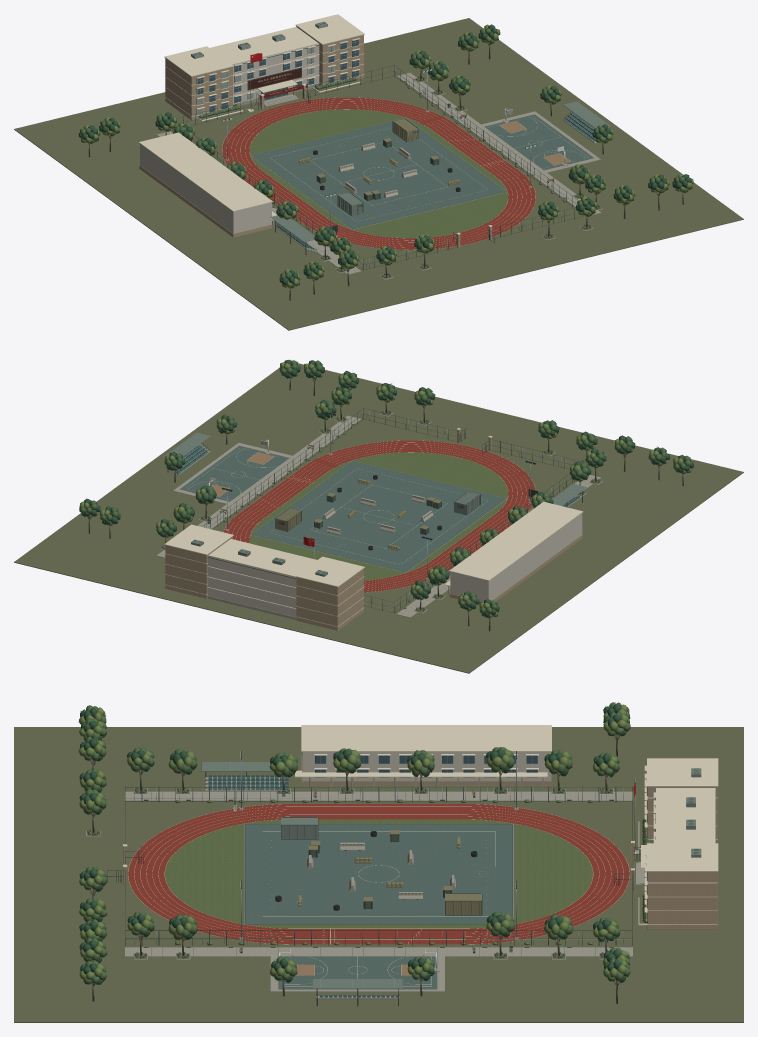
Rendered from campus.glb.
3 views of the same model, one above another, from view 1: azimuth 30°, elevation 25°; view 2: azimuth 150°, elevation 25°; view 3: azimuth 270°, elevation 25° (orthographic). The views are drawn at different scales.
Visible parts, largest first — view 1: CAMPUS | Earth, CAMPUS | 01 | Worn jade court, CAMPUS | Pale limestone trim, CAMPUS | 02 | Granulated terracotta track, CAMPUS | Grass mid, CAMPUS | 03 | Cast concrete, CAMPUS | Warm plaster, CAMPUS | 05 | Warm campus brick, CAMPUS | Leaf deep, CAMPUS | Leaf sunlit, CAMPUS | Leaf medium, CAMPUS | Graphite steel (+10 smaller); view 2: CAMPUS | Earth, CAMPUS | 01 | Worn jade court, CAMPUS | Pale limestone trim, CAMPUS | 02 | Granulated terracotta track, CAMPUS | Warm plaster, CAMPUS | Grass mid, CAMPUS | 05 | Warm campus brick, CAMPUS | 03 | Cast concrete, CAMPUS | Leaf medium, CAMPUS | Leaf deep, CAMPUS | Leaf sunlit, CAMPUS | Graphite steel (+5 smaller); view 3: CAMPUS | Earth, CAMPUS | 01 | Worn jade court, CAMPUS | 02 | Granulated terracotta track, CAMPUS | Pale limestone trim, CAMPUS | Grass mid, CAMPUS | 03 | Cast concrete, CAMPUS | Leaf sunlit, CAMPUS | 05 | Warm campus brick, CAMPUS | Leaf medium, CAMPUS | Leaf deep, CAMPUS | Graphite steel, CAMPUS | Warm plaster (+9 smaller).
Part boxes in pixels (x1,y1,x2,y2): CAMPUS | Earth: (14,18,743,330); CAMPUS | 01 | Worn jade court: (251,114,593,229); CAMPUS | Pale limestone trim: (139,14,535,234); CAMPUS | 02 | Granulated terracotta track: (222,97,535,249); CAMPUS | Grass mid: (190,76,565,238); CAMPUS | 03 | Cast concrete: (157,72,602,279); CAMPUS | Warm plaster: (140,28,319,233); CAMPUS | 05 | Warm campus brick: (139,26,491,247); CAMPUS | Leaf deep: (78,24,691,285); CAMPUS | Leaf sunlit: (81,24,693,288); CAMPUS | Leaf medium: (80,25,692,288); CAMPUS | Graphite steel: (172,22,590,270); CAMPUS | Earth: (14,363,743,673); CAMPUS | 01 | Worn jade court: (179,445,506,572); CAMPUS | Pale limestone trim: (164,428,583,626); CAMPUS | 02 | Granulated terracotta track: (224,440,535,592); CAMPUS | Warm plaster: (207,513,582,617); CAMPUS | Grass mid: (212,432,565,601); CAMPUS | 05 | Warm campus brick: (165,430,582,630); CAMPUS | 03 | Cast concrete: (156,410,602,619); CAMPUS | Leaf medium: (79,360,691,614); CAMPUS | Leaf deep: (81,359,693,617); CAMPUS | Leaf sunlit: (79,362,693,618); CAMPUS | Graphite steel: (167,408,585,613); CAMPUS | Earth: (14,727,743,1022); CAMPUS | 01 | Worn jade court: (244,824,513,989); CAMPUS | 02 | Granulated terracotta track: (128,804,629,944); CAMPUS | Pale limestone trim: (123,725,718,925); CAMPUS | Grass mid: (165,800,652,945); CAMPUS | 03 | Cast concrete: (86,777,646,999); CAMPUS | Leaf sunlit: (78,702,630,984); CAMPUS | 05 | Warm campus brick: (123,756,717,929); CAMPUS | Leaf medium: (78,702,630,984); CAMPUS | Leaf deep: (79,704,629,984); CAMPUS | Graphite steel: (107,751,715,1006); CAMPUS | Warm plaster: (302,752,550,781).
Bounding box in the file's own units: 132 × 16.06 × 138.
Materials: 47 (15 with a texture image).
